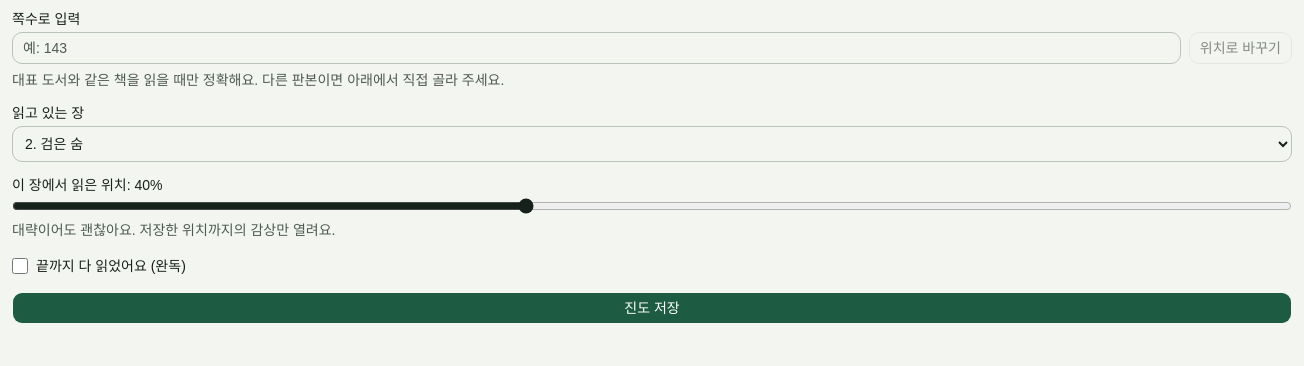
Test: 진도 입력 › 쪽수를 쓸 수 없는 책은 오류 문구를 보여 준다
Type "9999" into the field labelled "쪽수로 입력" at (596, 48), box [12,32,1181,64]
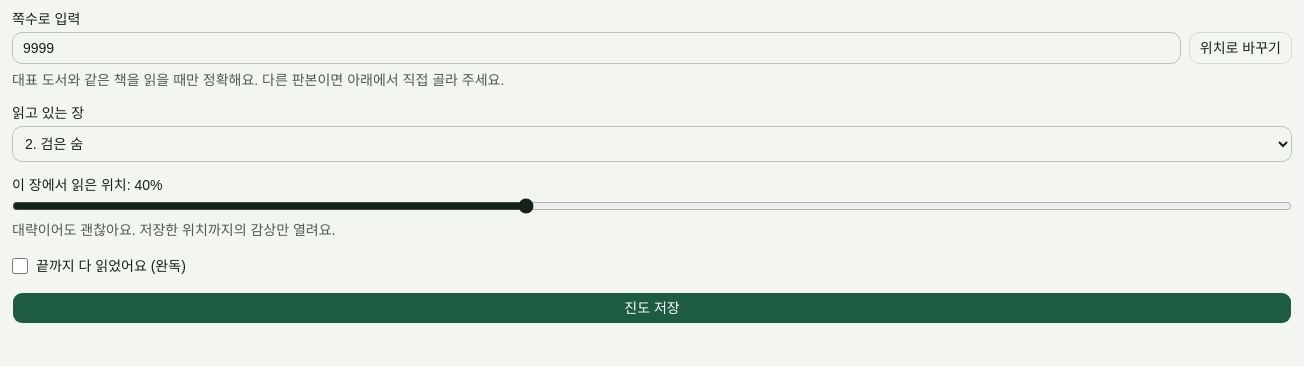
Click the button "위치로 바꾸기" at (1240, 48), box [1189,32,1292,64]
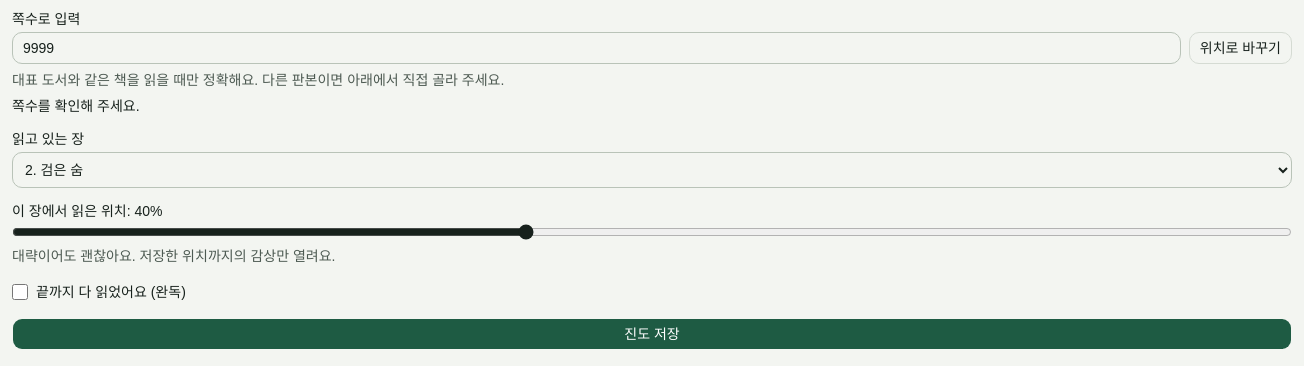
expect the text "쪽수를 확인해 주세요." is shown: met, box [12,98,140,114]
